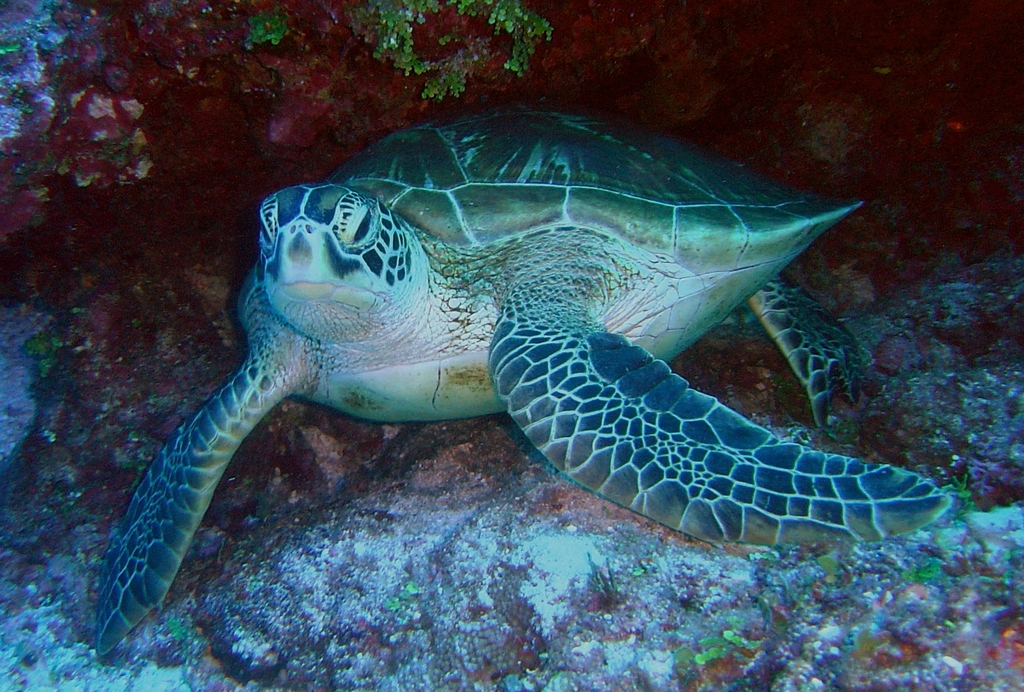Sea turtles: (91, 105, 954, 660)
